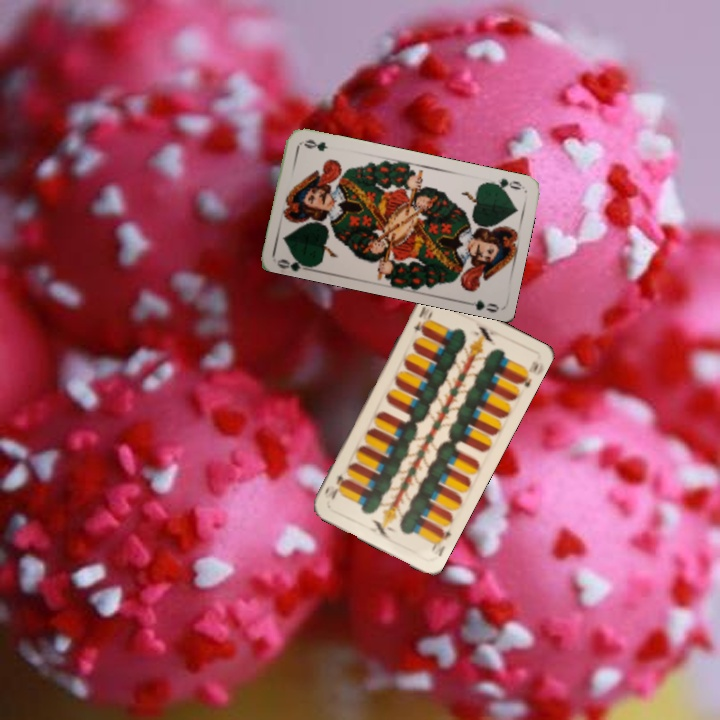E10: (427, 524, 454, 559), (409, 302, 429, 337)
GO: (274, 252, 315, 274), (484, 174, 524, 194)
